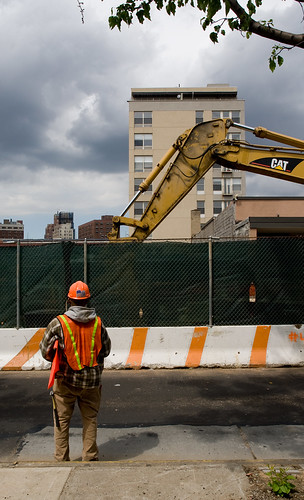person hardhat: (41, 279, 120, 460)
